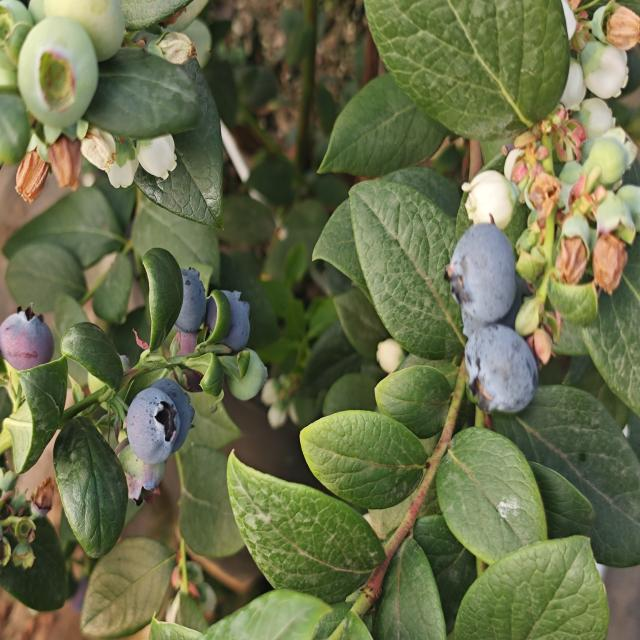ripe: (444, 220, 518, 334), (461, 322, 540, 418), (123, 376, 196, 468), (1, 302, 56, 375), (203, 287, 252, 355), (171, 264, 208, 338)
